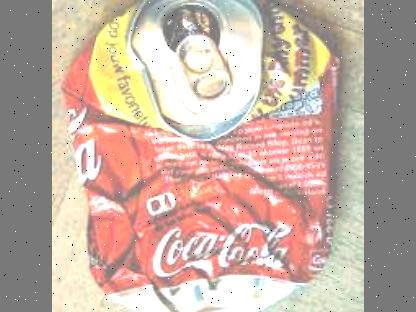Can: (62, 0, 343, 312)
